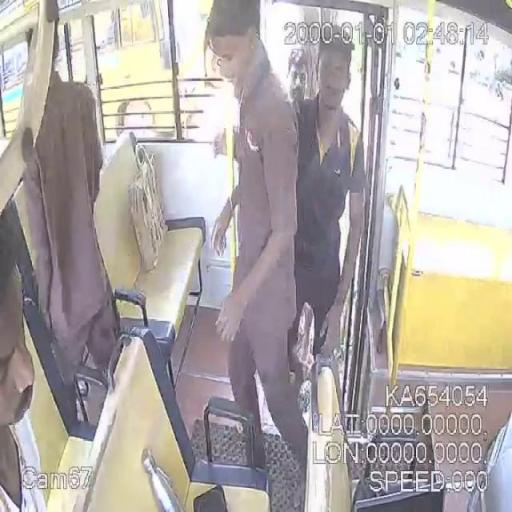persona: (203, 1, 309, 478), (289, 30, 368, 364)
